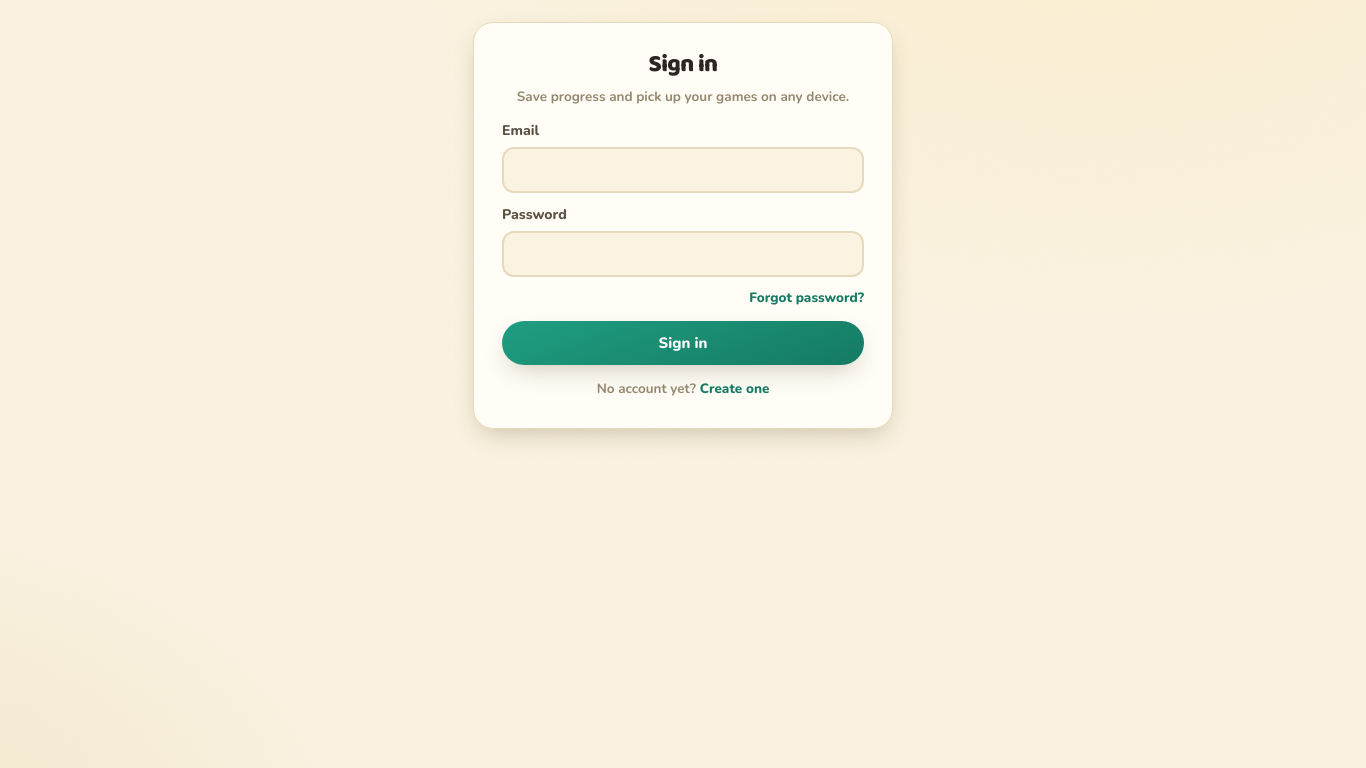
Test case: AuthScreen › switch link keeps typed email and next param
The image size is (1366, 768).
Check: the heading "Sign in" is shown, box [648,45,717,84]
Type "keep@example.com" into the field labelled "Email" at point(683, 170), box [502,147,864,193]
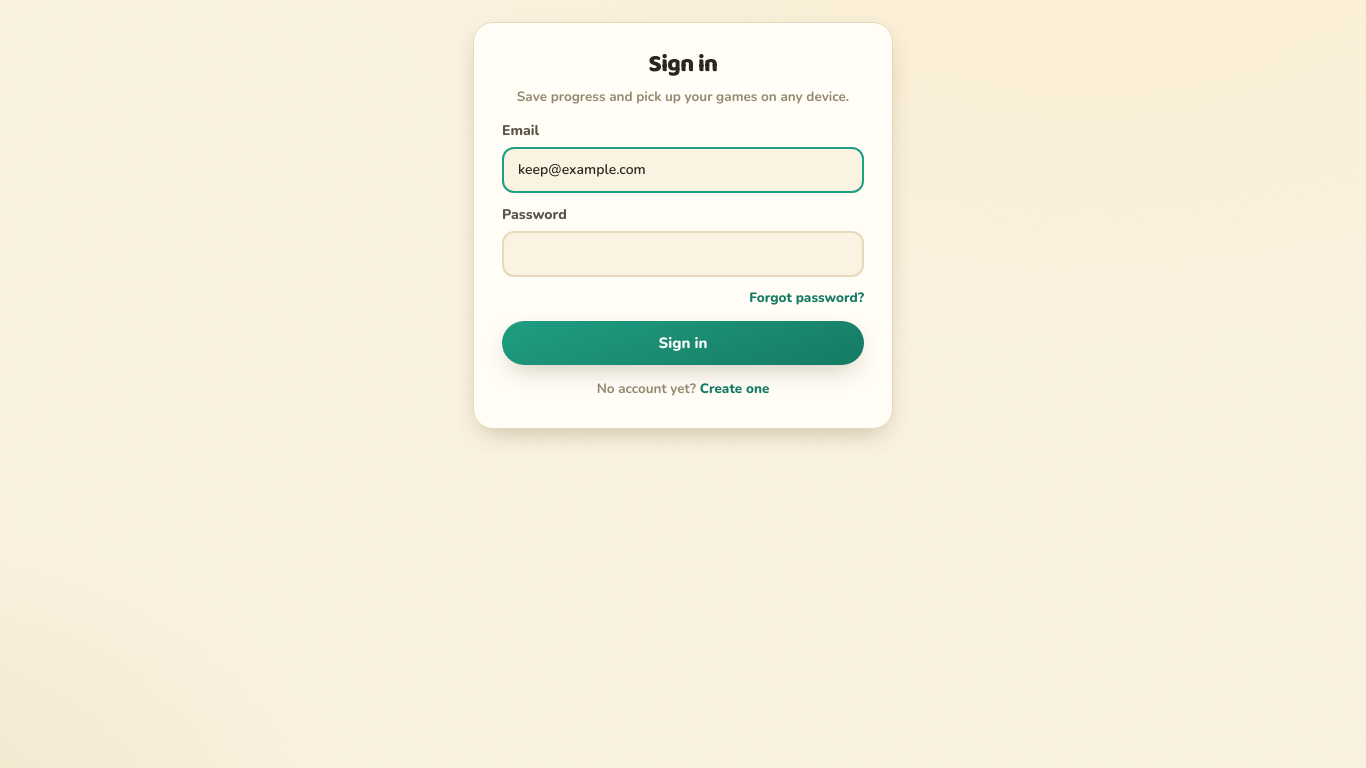
Click the link "Create one" at point(734, 389), box [700,379,769,398]
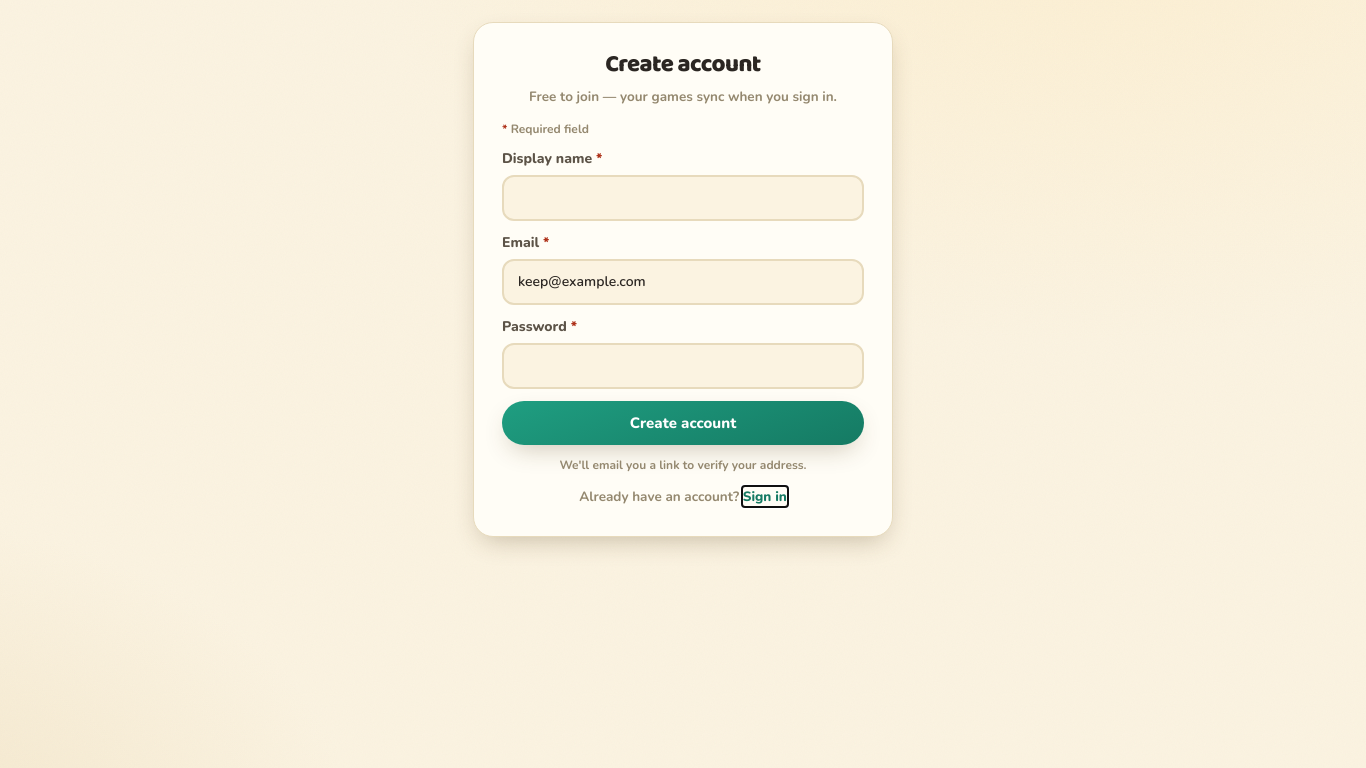
Check: the heading "Create account" is shown, box [605,45,761,84]
Check: the field labelled "Email *" holds "keep@example.com", box [502,259,864,305]
